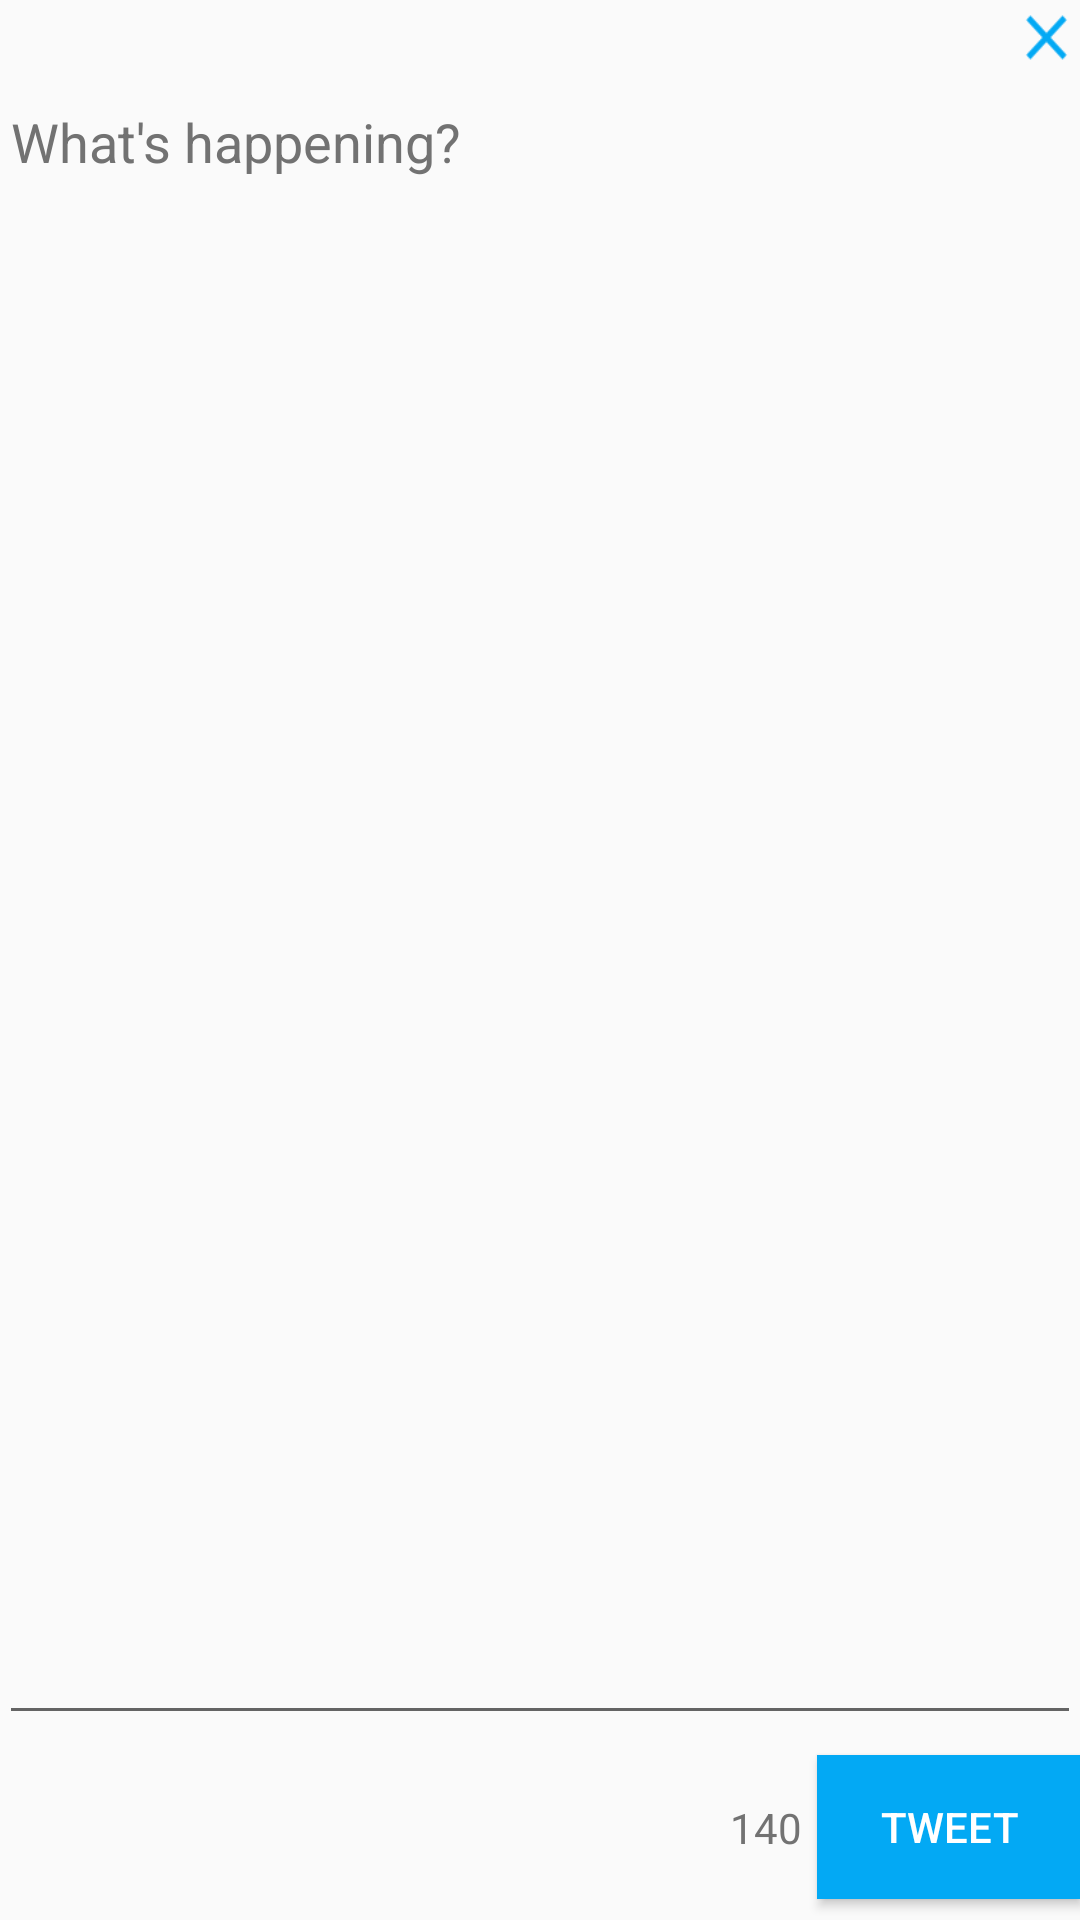

Icon bounding boxes for this 1080px x 1920px phone screenshot, format (x1, y1, x2, y2):
clear: (1026, 15, 1067, 60)
